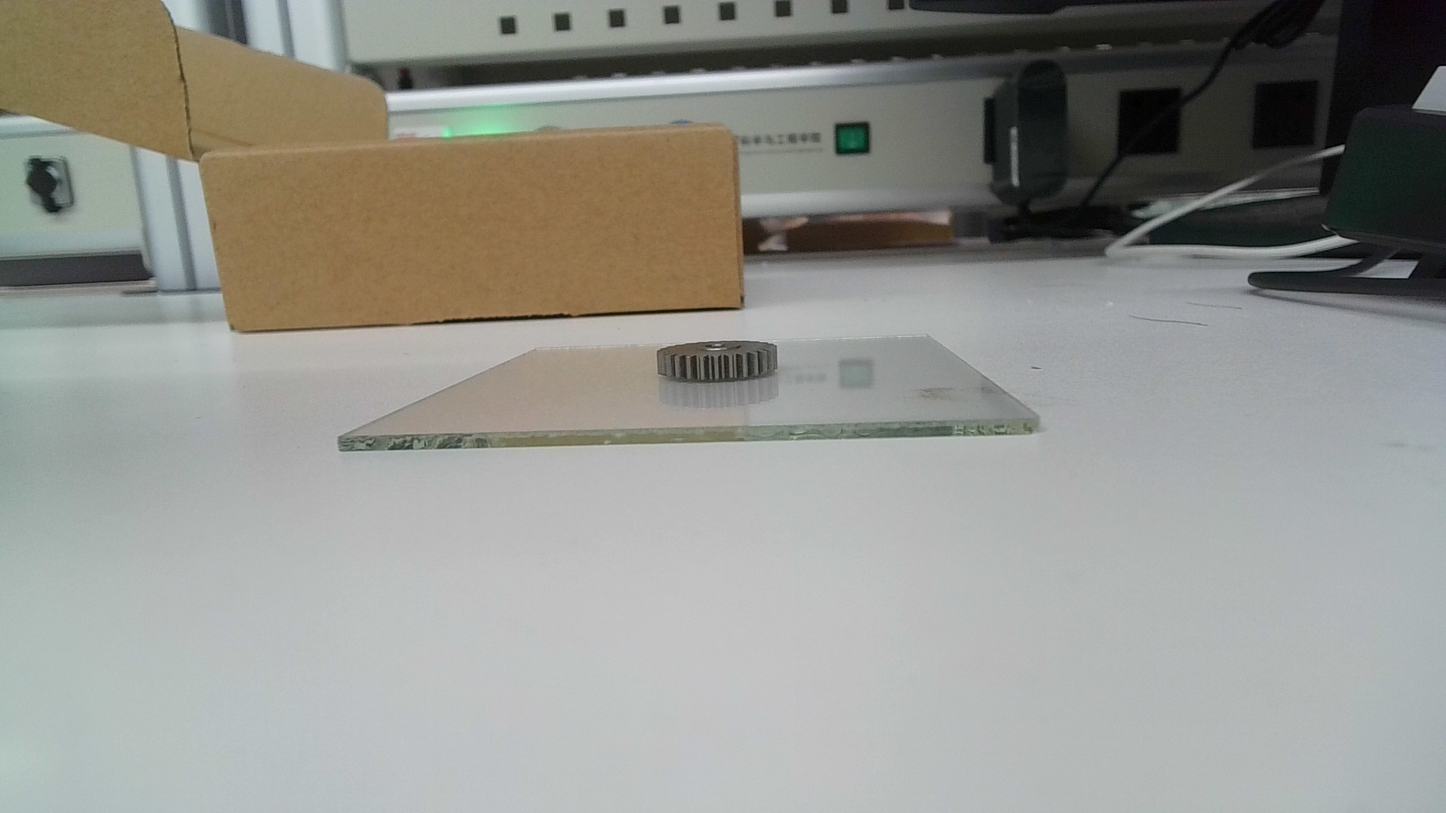gear: (654, 339, 782, 383)
